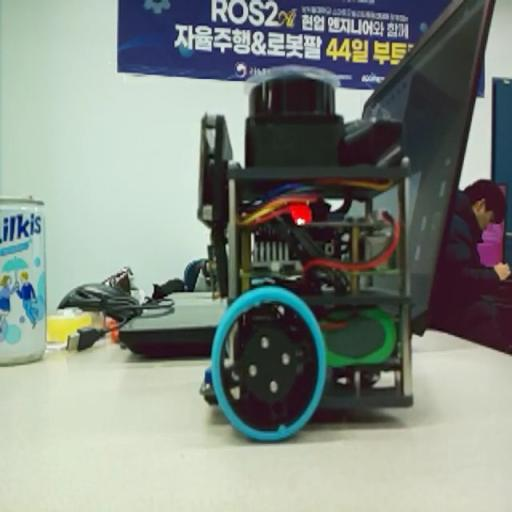pinky_63: (196, 66, 417, 444)
